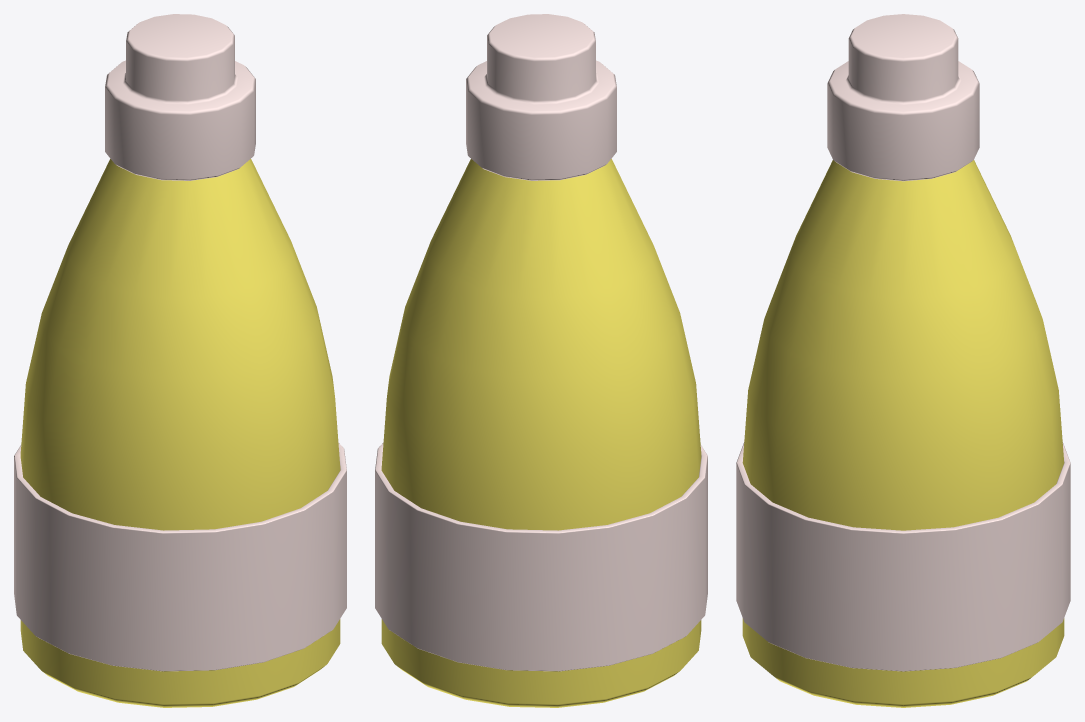
File: Public_13_Bottle_4.glb
3 renders of one model, left to right at view 1: azimuth 30°, elevation 25°; view 2: azimuth 150°, elevation 25°; view 3: azimuth 270°, elevation 25°, orthographic.
Visible parts, largest first — view 1: Public_13_Bottle_4; view 2: Public_13_Bottle_4; view 3: Public_13_Bottle_4.
Boxes of the visible parts, box(x1,y1,x2,y2) form: Public_13_Bottle_4: box(14, 14, 346, 707); Public_13_Bottle_4: box(375, 14, 707, 707); Public_13_Bottle_4: box(736, 14, 1070, 707).
Bounding box in the file's own units: 0.3993 × 0.8001 × 0.3993.
Materials: 1 (1 with a texture image).
